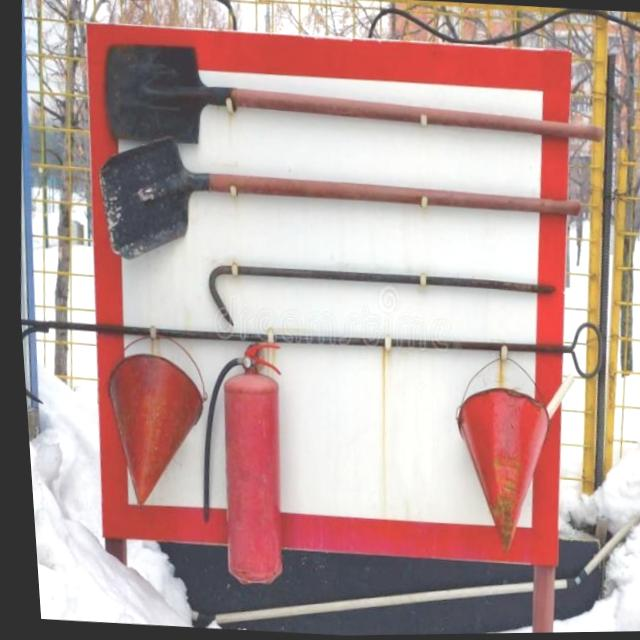FireExtinguisher: (176, 330, 303, 589)
